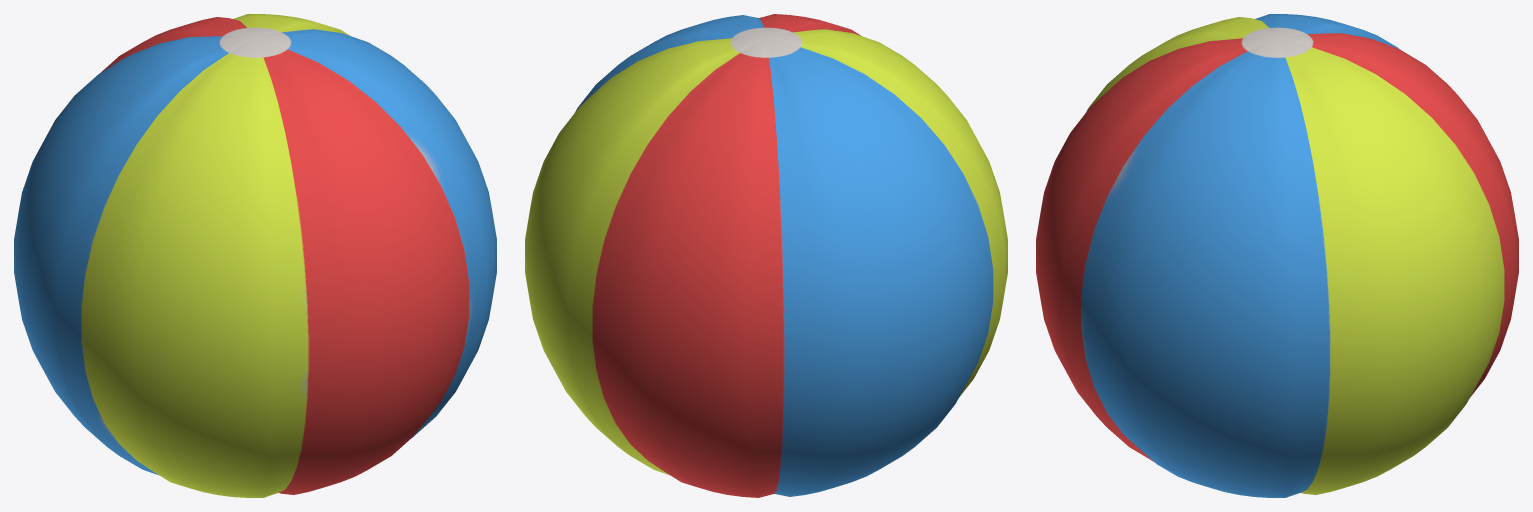
The model's file is beachball.obj.
3 renders of one model, left to right at view 1: azimuth 30°, elevation 25°; view 2: azimuth 150°, elevation 25°; view 3: azimuth 270°, elevation 25°, orthographic.
Parts seen in each view (by area): view 1: Sphere.001; view 2: Sphere.001; view 3: Sphere.001.
Part boxes in pixels (bbox=[...]): Sphere.001: bbox=[14, 14, 496, 497]; Sphere.001: bbox=[525, 14, 1007, 497]; Sphere.001: bbox=[1036, 14, 1518, 497].
Size of the model in its own units: 1.99 by 2 by 1.99.
Materials: 1 (1 with a texture image).
